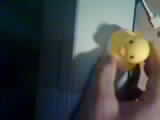duck: (99, 21, 151, 71)
